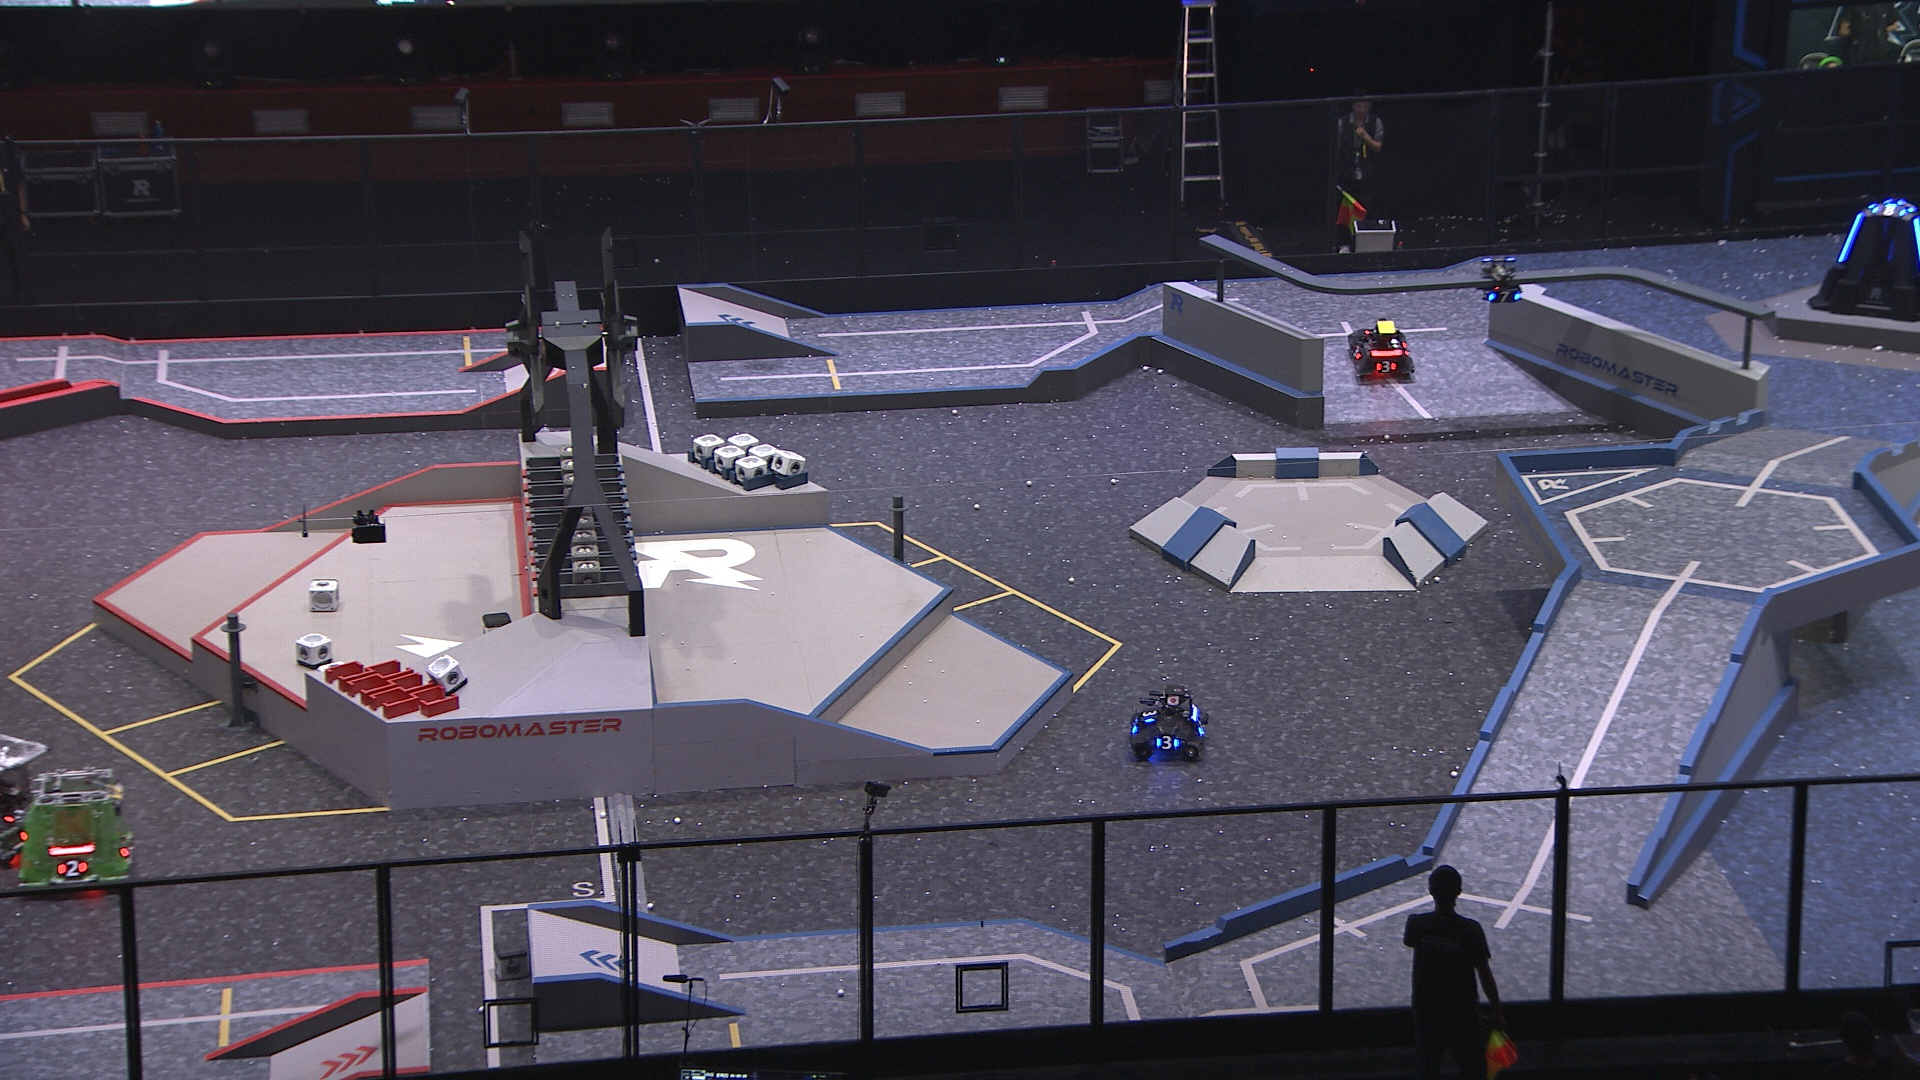armor: (1836, 211, 1865, 262), (57, 858, 88, 880), (1869, 202, 1908, 218), (1486, 290, 1520, 305), (1155, 735, 1182, 752), (1138, 705, 1159, 727), (3, 807, 25, 825), (1912, 215, 1920, 257), (1373, 360, 1400, 372), (1349, 343, 1362, 361)
base: (1807, 196, 1920, 323)
car: (21, 767, 138, 895), (1126, 684, 1211, 761), (1346, 316, 1418, 382)
watcher: (1480, 256, 1524, 305)
